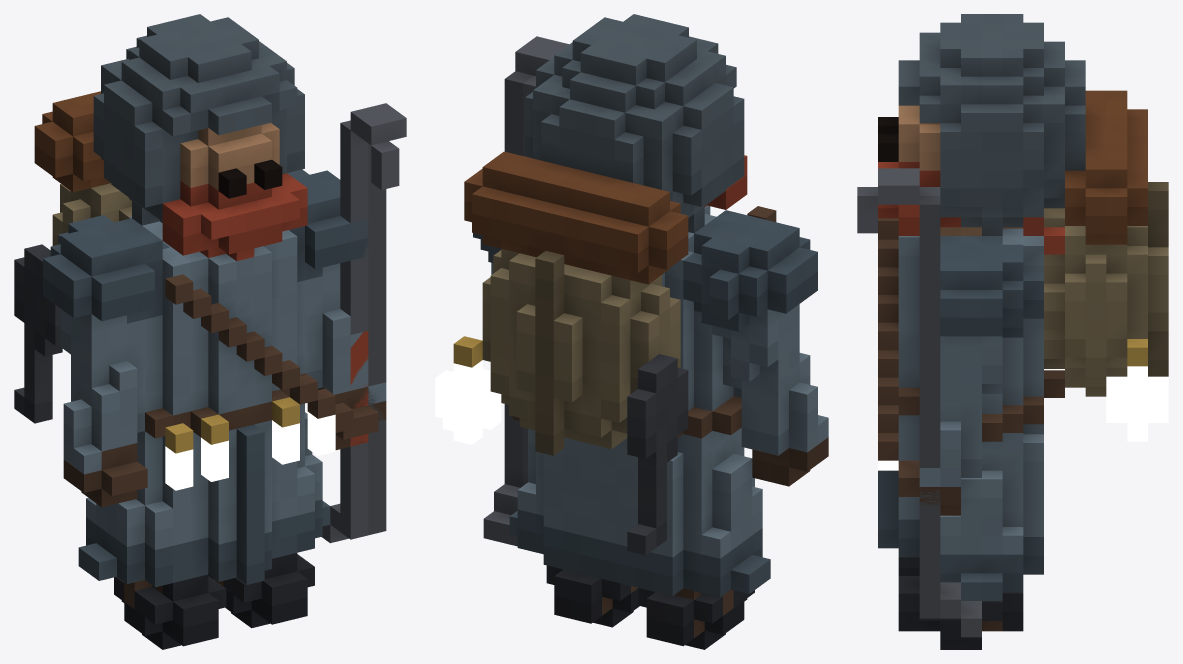
The model's file is u_receleur.glb.
3 renders of one model, left to right at view 1: azimuth 30°, elevation 25°; view 2: azimuth 150°, elevation 25°; view 3: azimuth 270°, elevation 25°, orthographic. The views are drawn at different scales.
Parts seen in each view (by area): view 1: receleur_body, receleur_weapon, receleur_glow; view 2: receleur_body, receleur_weapon, receleur_glow; view 3: receleur_body, receleur_weapon, receleur_glow.
Part boxes in pixels (x1,y1,x2,y2): receleur_body: (14,14,386,649); receleur_weapon: (321,103,406,543); receleur_glow: (165,412,335,490); receleur_body: (453,14,828,649); receleur_weapon: (483,36,568,546); receleur_glow: (435,360,501,444); receleur_body: (878,14,1168,649); receleur_weapon: (857,168,981,637); receleur_glow: (878,366,1168,470).
Bounding box in the file's own units: 0.85 × 1.55 × 0.75.
